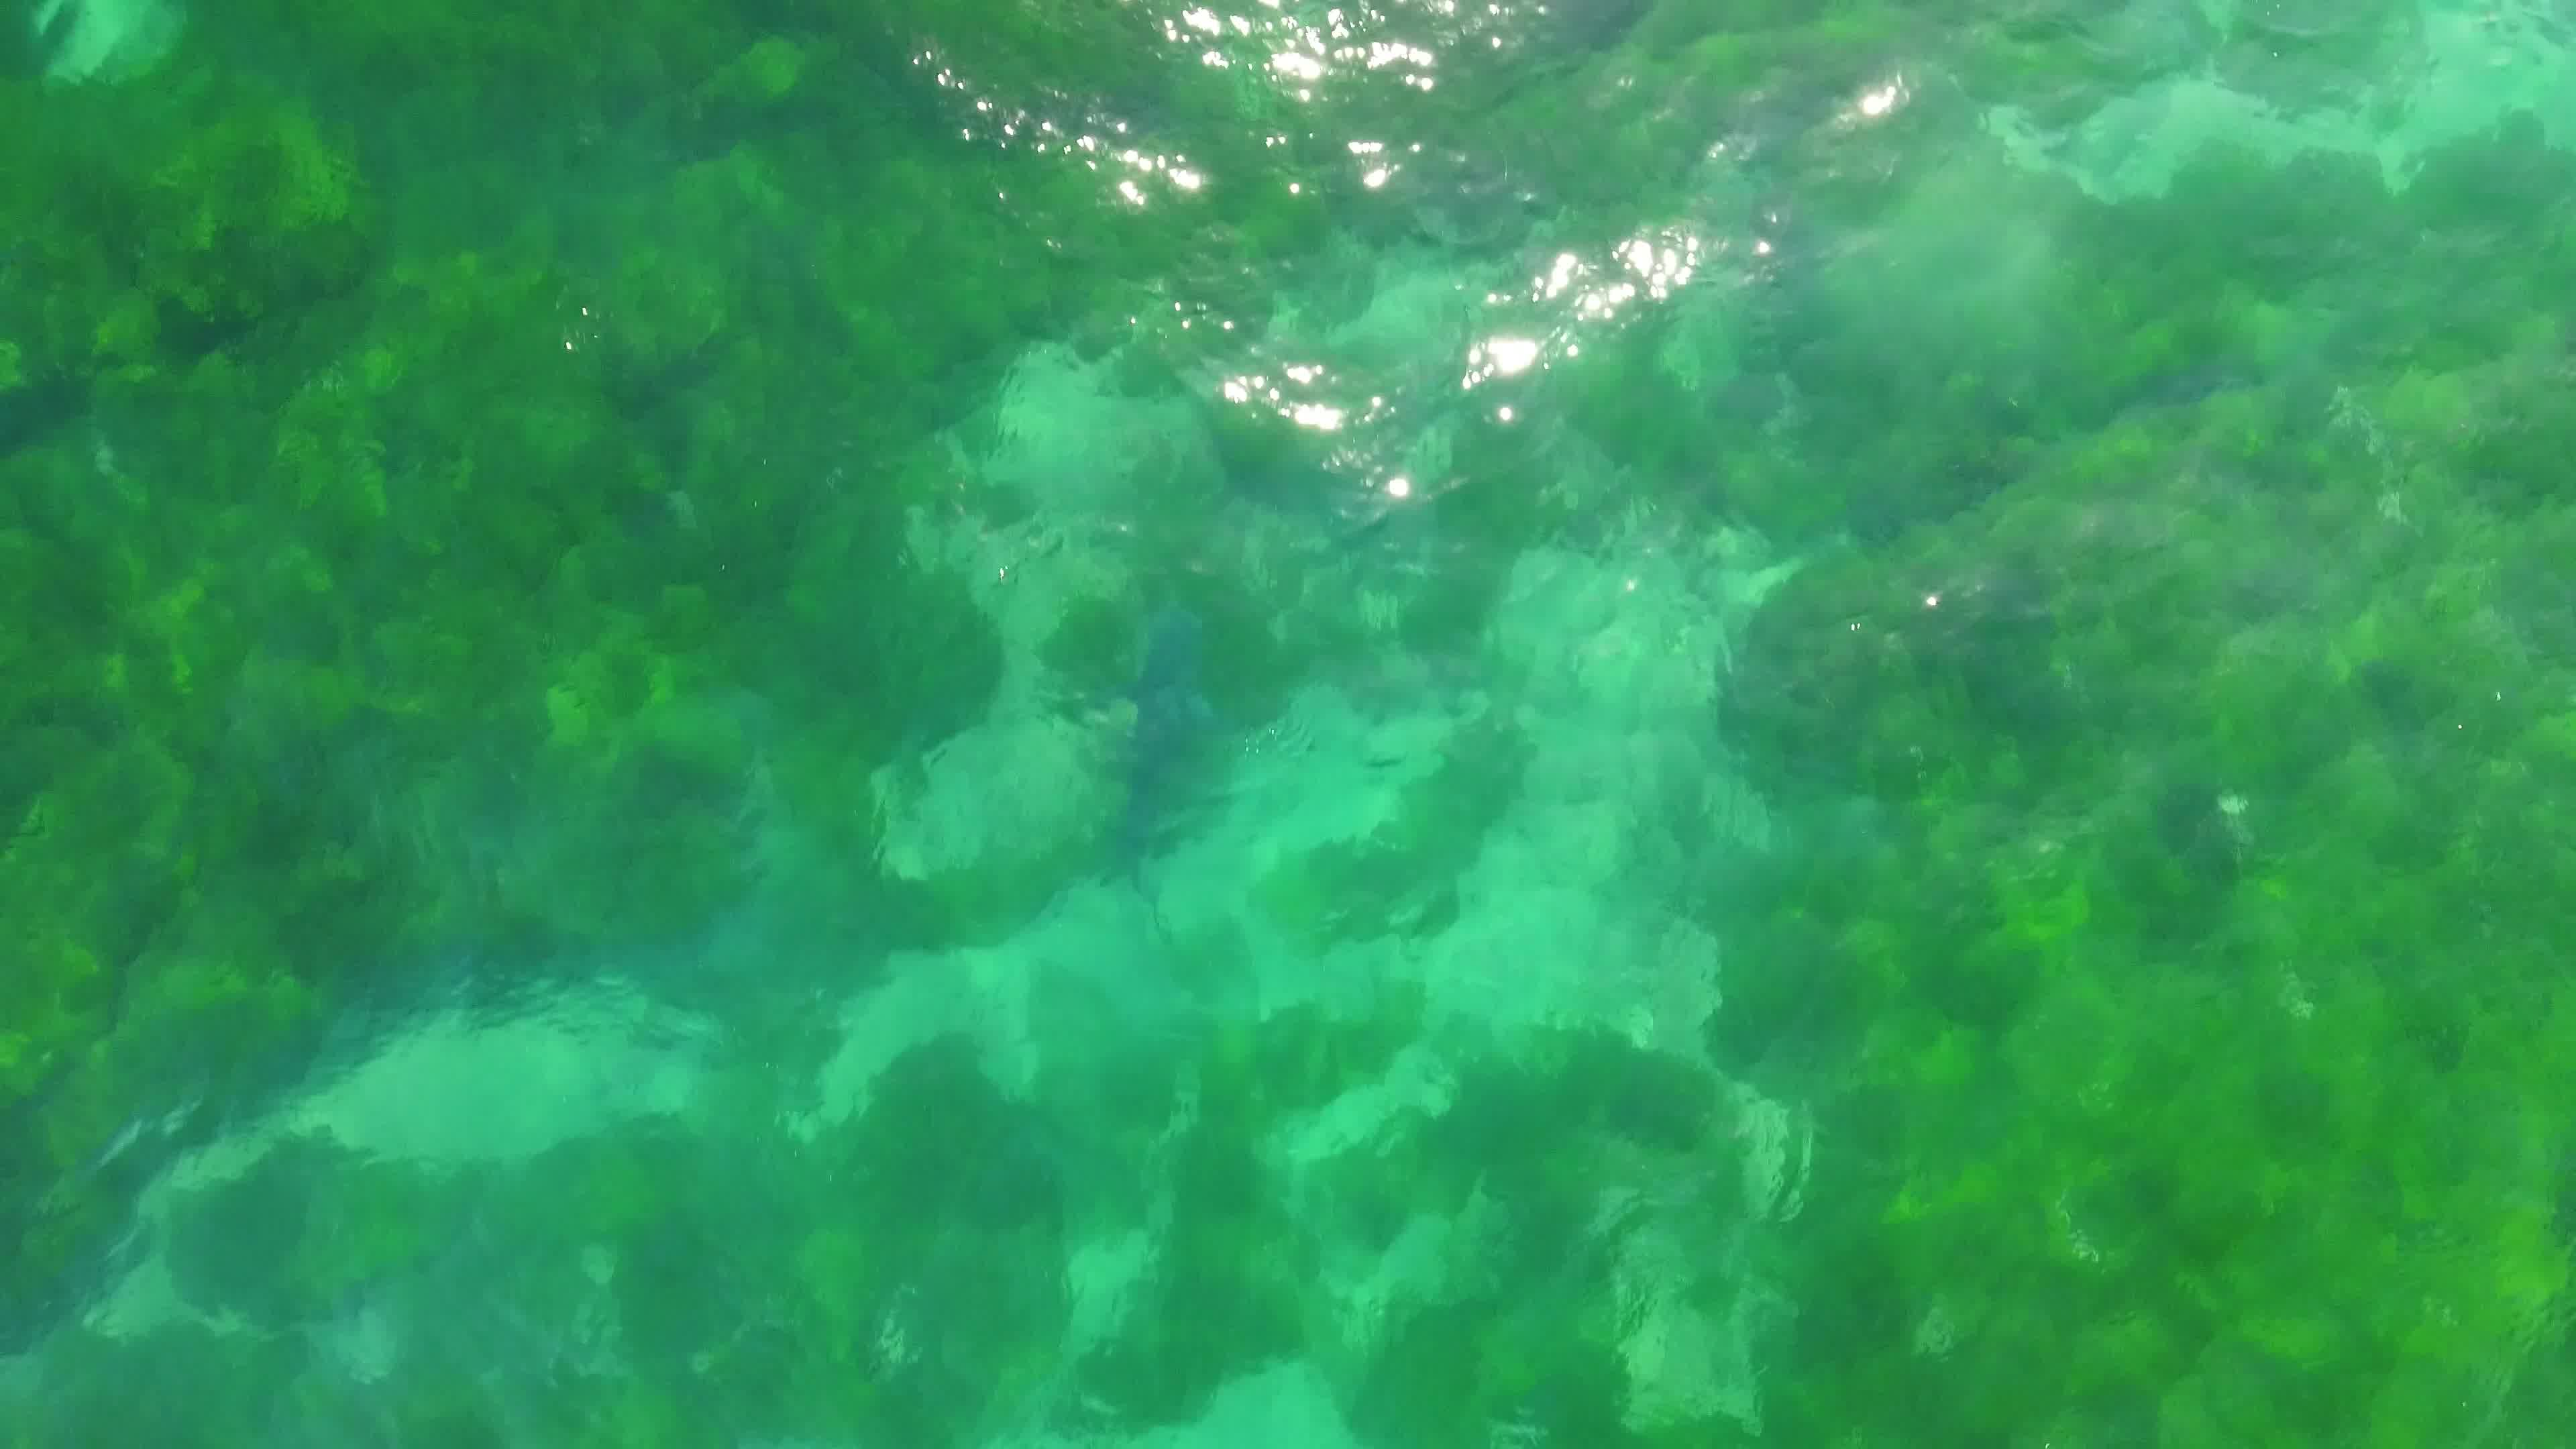shark: (1067, 591, 1240, 890)
